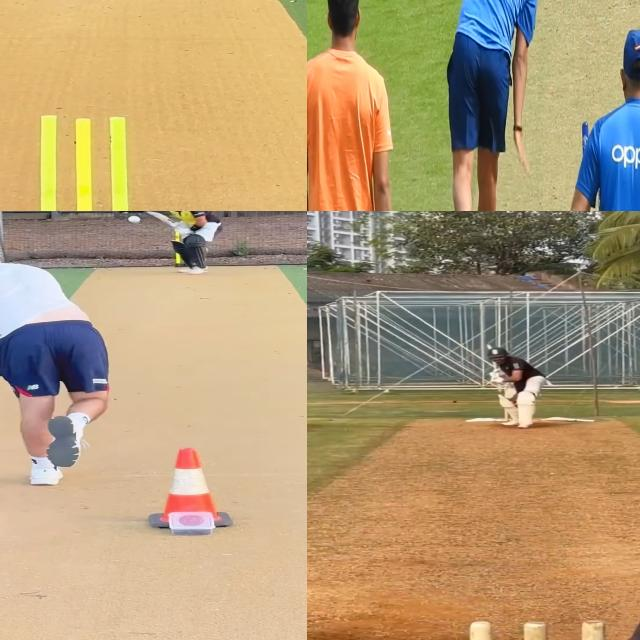Cricket ball: (125, 213, 143, 226)
